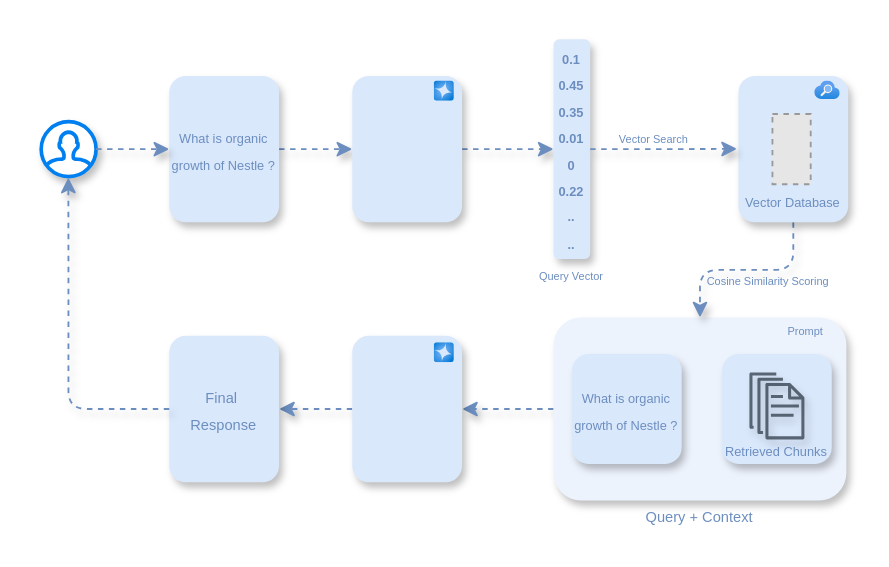
Image size: 889x567. Some labels were removed from this diagram. Grey dashed boxes stand in for pictures. The shapes that lost their labels are listed below. From the top down, each one's centre as x and y in pixels, then its label:
At pixel 408 151: "Embedding Model".
At pixel 408 411: "Large Language Model".
